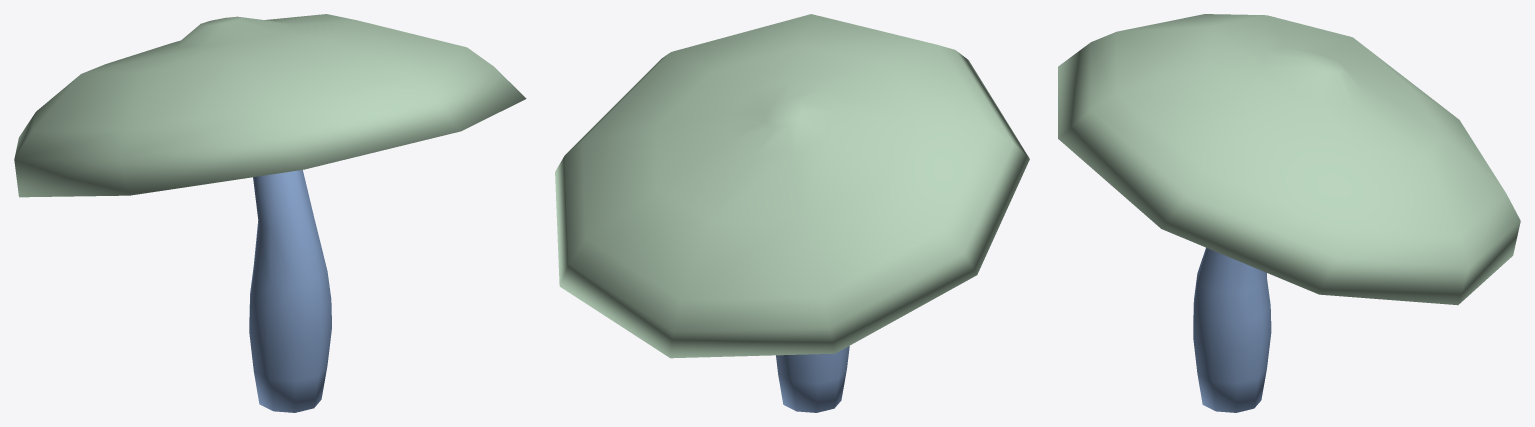
Rendered from mushroom4.fbx.
3 views of the same model, side by side, from view 1: azimuth 30°, elevation 25°; view 2: azimuth 150°, elevation 25°; view 3: azimuth 270°, elevation 25° (orthographic). The views are drawn at different scales.
Visible parts, largest first — view 1: Cylinder; view 2: Cylinder; view 3: Cylinder.
Part boxes in pixels (x1=…): Cylinder: x1=14, y1=14, x2=526, y2=412; Cylinder: x1=555, y1=14, x2=1029, y2=412; Cylinder: x1=1058, y1=14, x2=1520, y2=412.
Size of the model in its own units: 1370 by 1057 by 1287.
